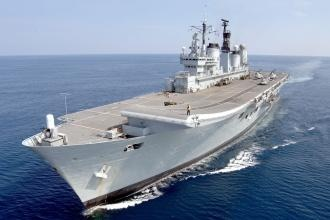warship: (16, 11, 291, 206)
